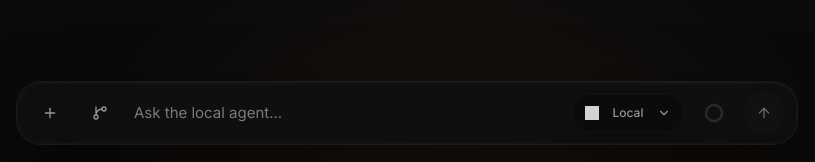
InputDock › shows slash command autocomplete from the backend
The width and height of the screenshot is (815, 162).
Type "/r" into the text box with placeholder "Ask the local agent..." at (346, 113), box [130,93,562,133]
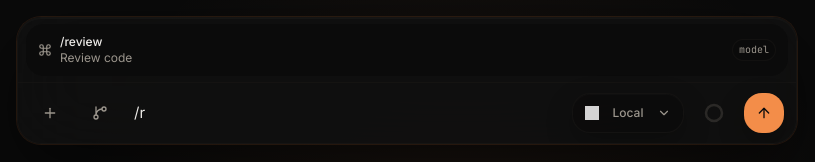
Result: the text "/review" is shown at [60,34,102,49]
